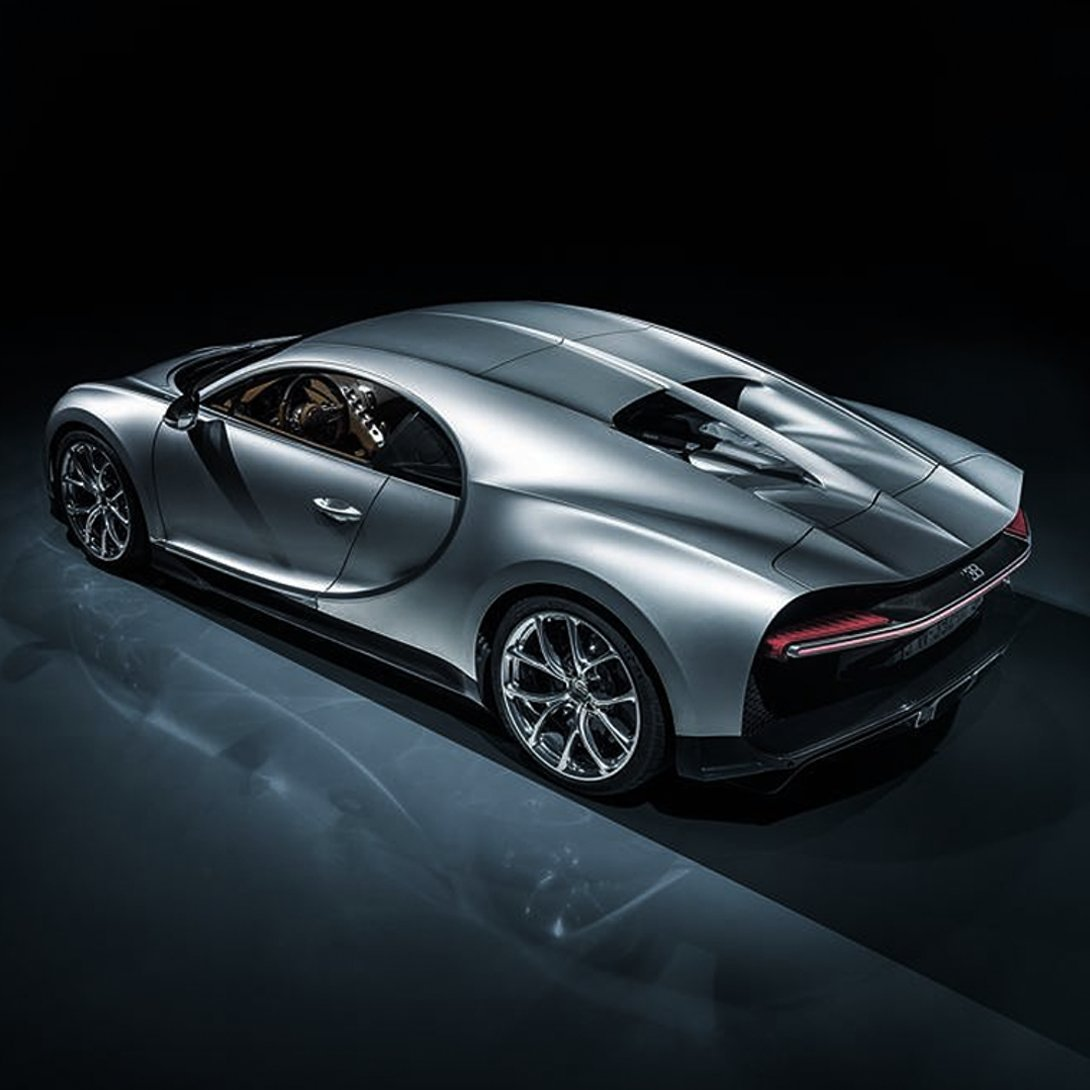car: (52, 284, 1037, 805)
